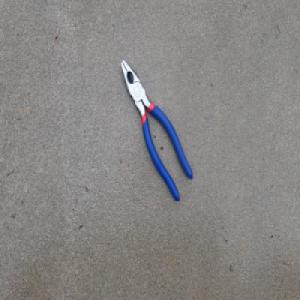Pliers: (119, 57, 194, 203)
